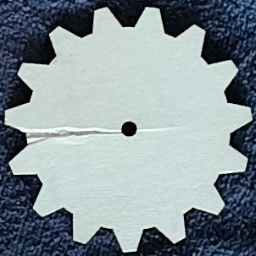Crack: (25, 121, 121, 147)
